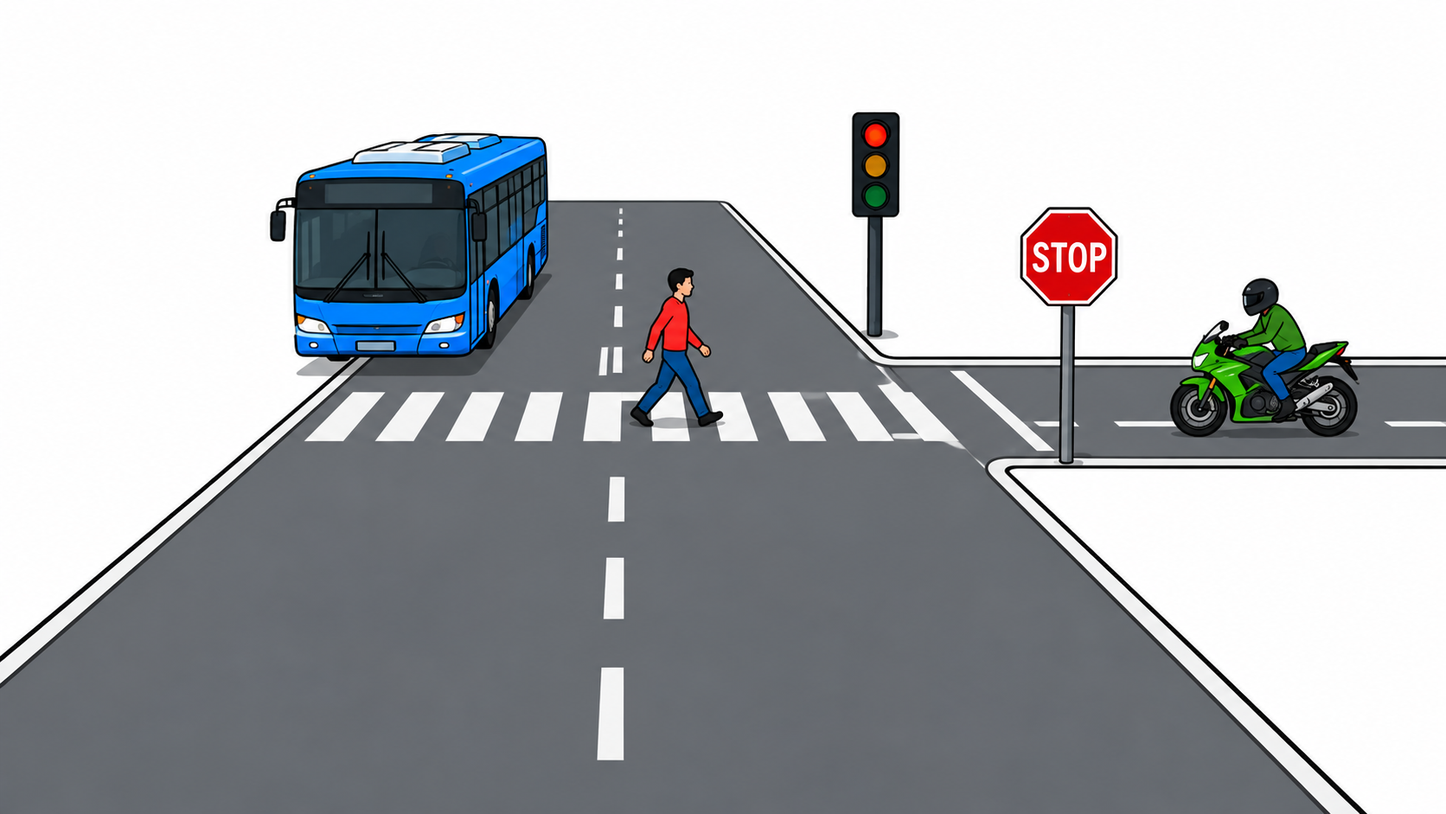bus: (270, 132, 553, 362)
motorcycle: (1166, 277, 1362, 439)
person: (1186, 277, 1307, 415), (630, 268, 724, 427)
stop_sign: (1019, 207, 1121, 306)
traffic_light: (852, 111, 901, 219)
zebra_crossing: (301, 389, 948, 444)
